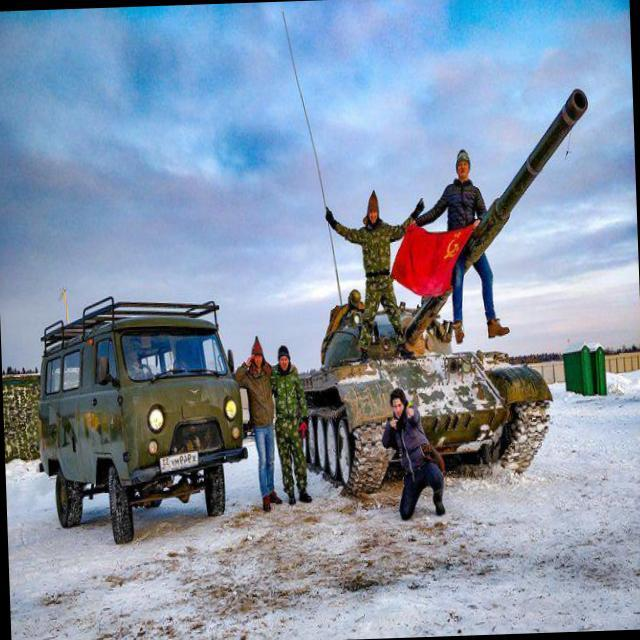rocket: (400, 86, 591, 342)
